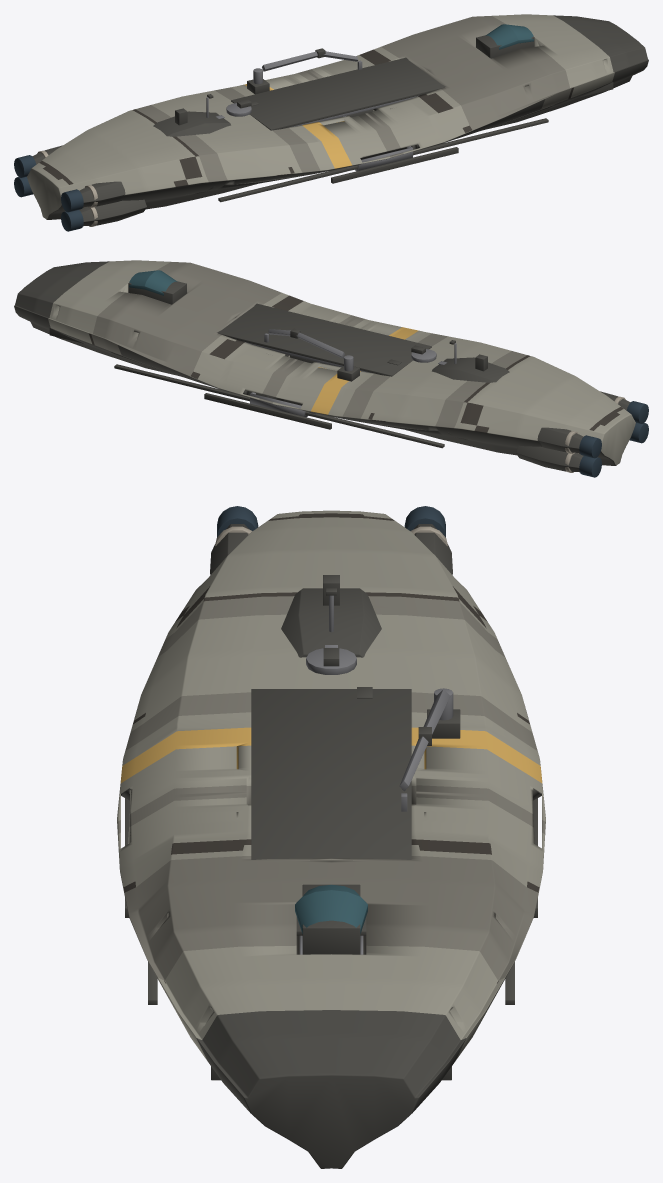
File: atlas_c1_lod2.glb
3 views of the same model, one above another, from view 1: azimuth 30°, elevation 25°; view 2: azimuth 150°, elevation 25°; view 3: azimuth 270°, elevation 25° (orthographic). The views are drawn at different scales.
Parts seen in each view (by area): view 1: LOD0_Hull, LOD0_AftHouse, LOD0_AftWalk, LOD0_Canopy, LOD0_Bell_PortUpper, LOD0_Bell_PortLower, LOD0_Bell_StbdUpper; view 2: LOD0_Hull, LOD0_AftHouse, LOD0_AftWalk, LOD0_Canopy, LOD0_Bell_StbdUpper, LOD0_Bell_StbdLower, LOD0_Bell_PortUpper; view 3: LOD0_Hull, LOD0_AftHouse, LOD0_AftWalk, LOD0_Canopy.
Part boxes in pixels (bbox=[...]): LOD0_Hull: bbox=[27, 14, 648, 219]; LOD0_AftHouse: bbox=[32, 35, 534, 226]; LOD0_AftWalk: bbox=[206, 51, 418, 171]; LOD0_Canopy: bbox=[485, 24, 533, 49]; LOD0_Bell_PortUpper: bbox=[61, 189, 83, 212]; LOD0_Bell_PortLower: bbox=[61, 210, 83, 231]; LOD0_Bell_StbdUpper: bbox=[14, 155, 36, 177]; LOD0_Hull: bbox=[14, 260, 635, 465]; LOD0_AftHouse: bbox=[128, 281, 630, 472]; LOD0_AftWalk: bbox=[244, 329, 456, 417]; LOD0_Canopy: bbox=[129, 270, 177, 295]; LOD0_Bell_StbdUpper: bbox=[579, 435, 601, 458]; LOD0_Bell_StbdLower: bbox=[579, 456, 601, 477]; LOD0_Bell_PortUpper: bbox=[626, 401, 648, 423]; LOD0_Hull: bbox=[117, 510, 545, 1168]; LOD0_AftHouse: bbox=[125, 524, 537, 954]; LOD0_AftWalk: bbox=[299, 595, 453, 954]; LOD0_Canopy: bbox=[295, 884, 367, 933].
Size of what is drawn, in the model's own units: 22.29 by 3.52 by 7.08.
